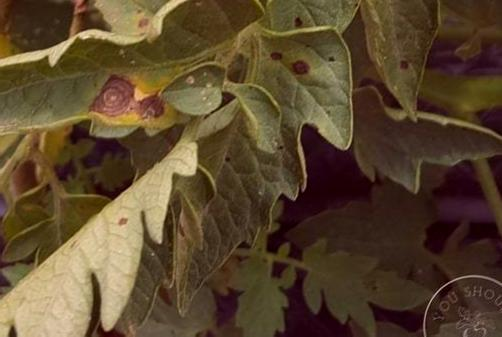Tomato Early blight leaf: (0, 0, 261, 147)
Tomato leaf: (338, 79, 502, 200), (295, 229, 437, 334)
